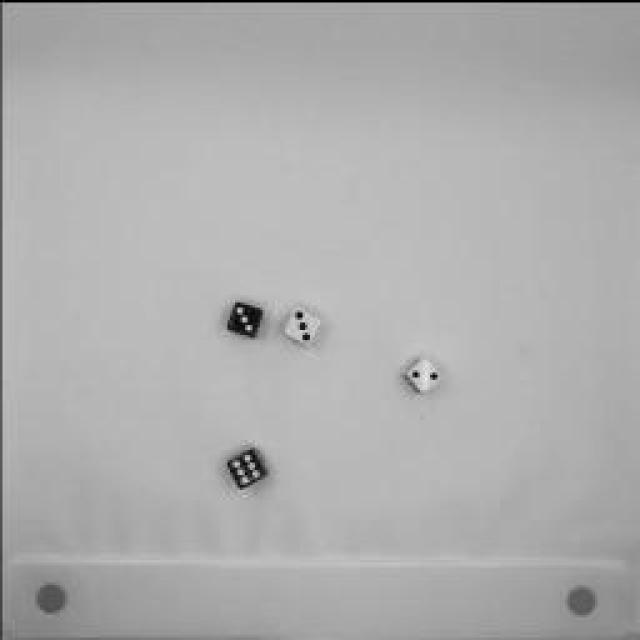dice_2: (400, 352, 445, 396)
dice_3: (278, 300, 328, 350), (224, 298, 268, 340)
dice_6: (221, 442, 271, 492)
